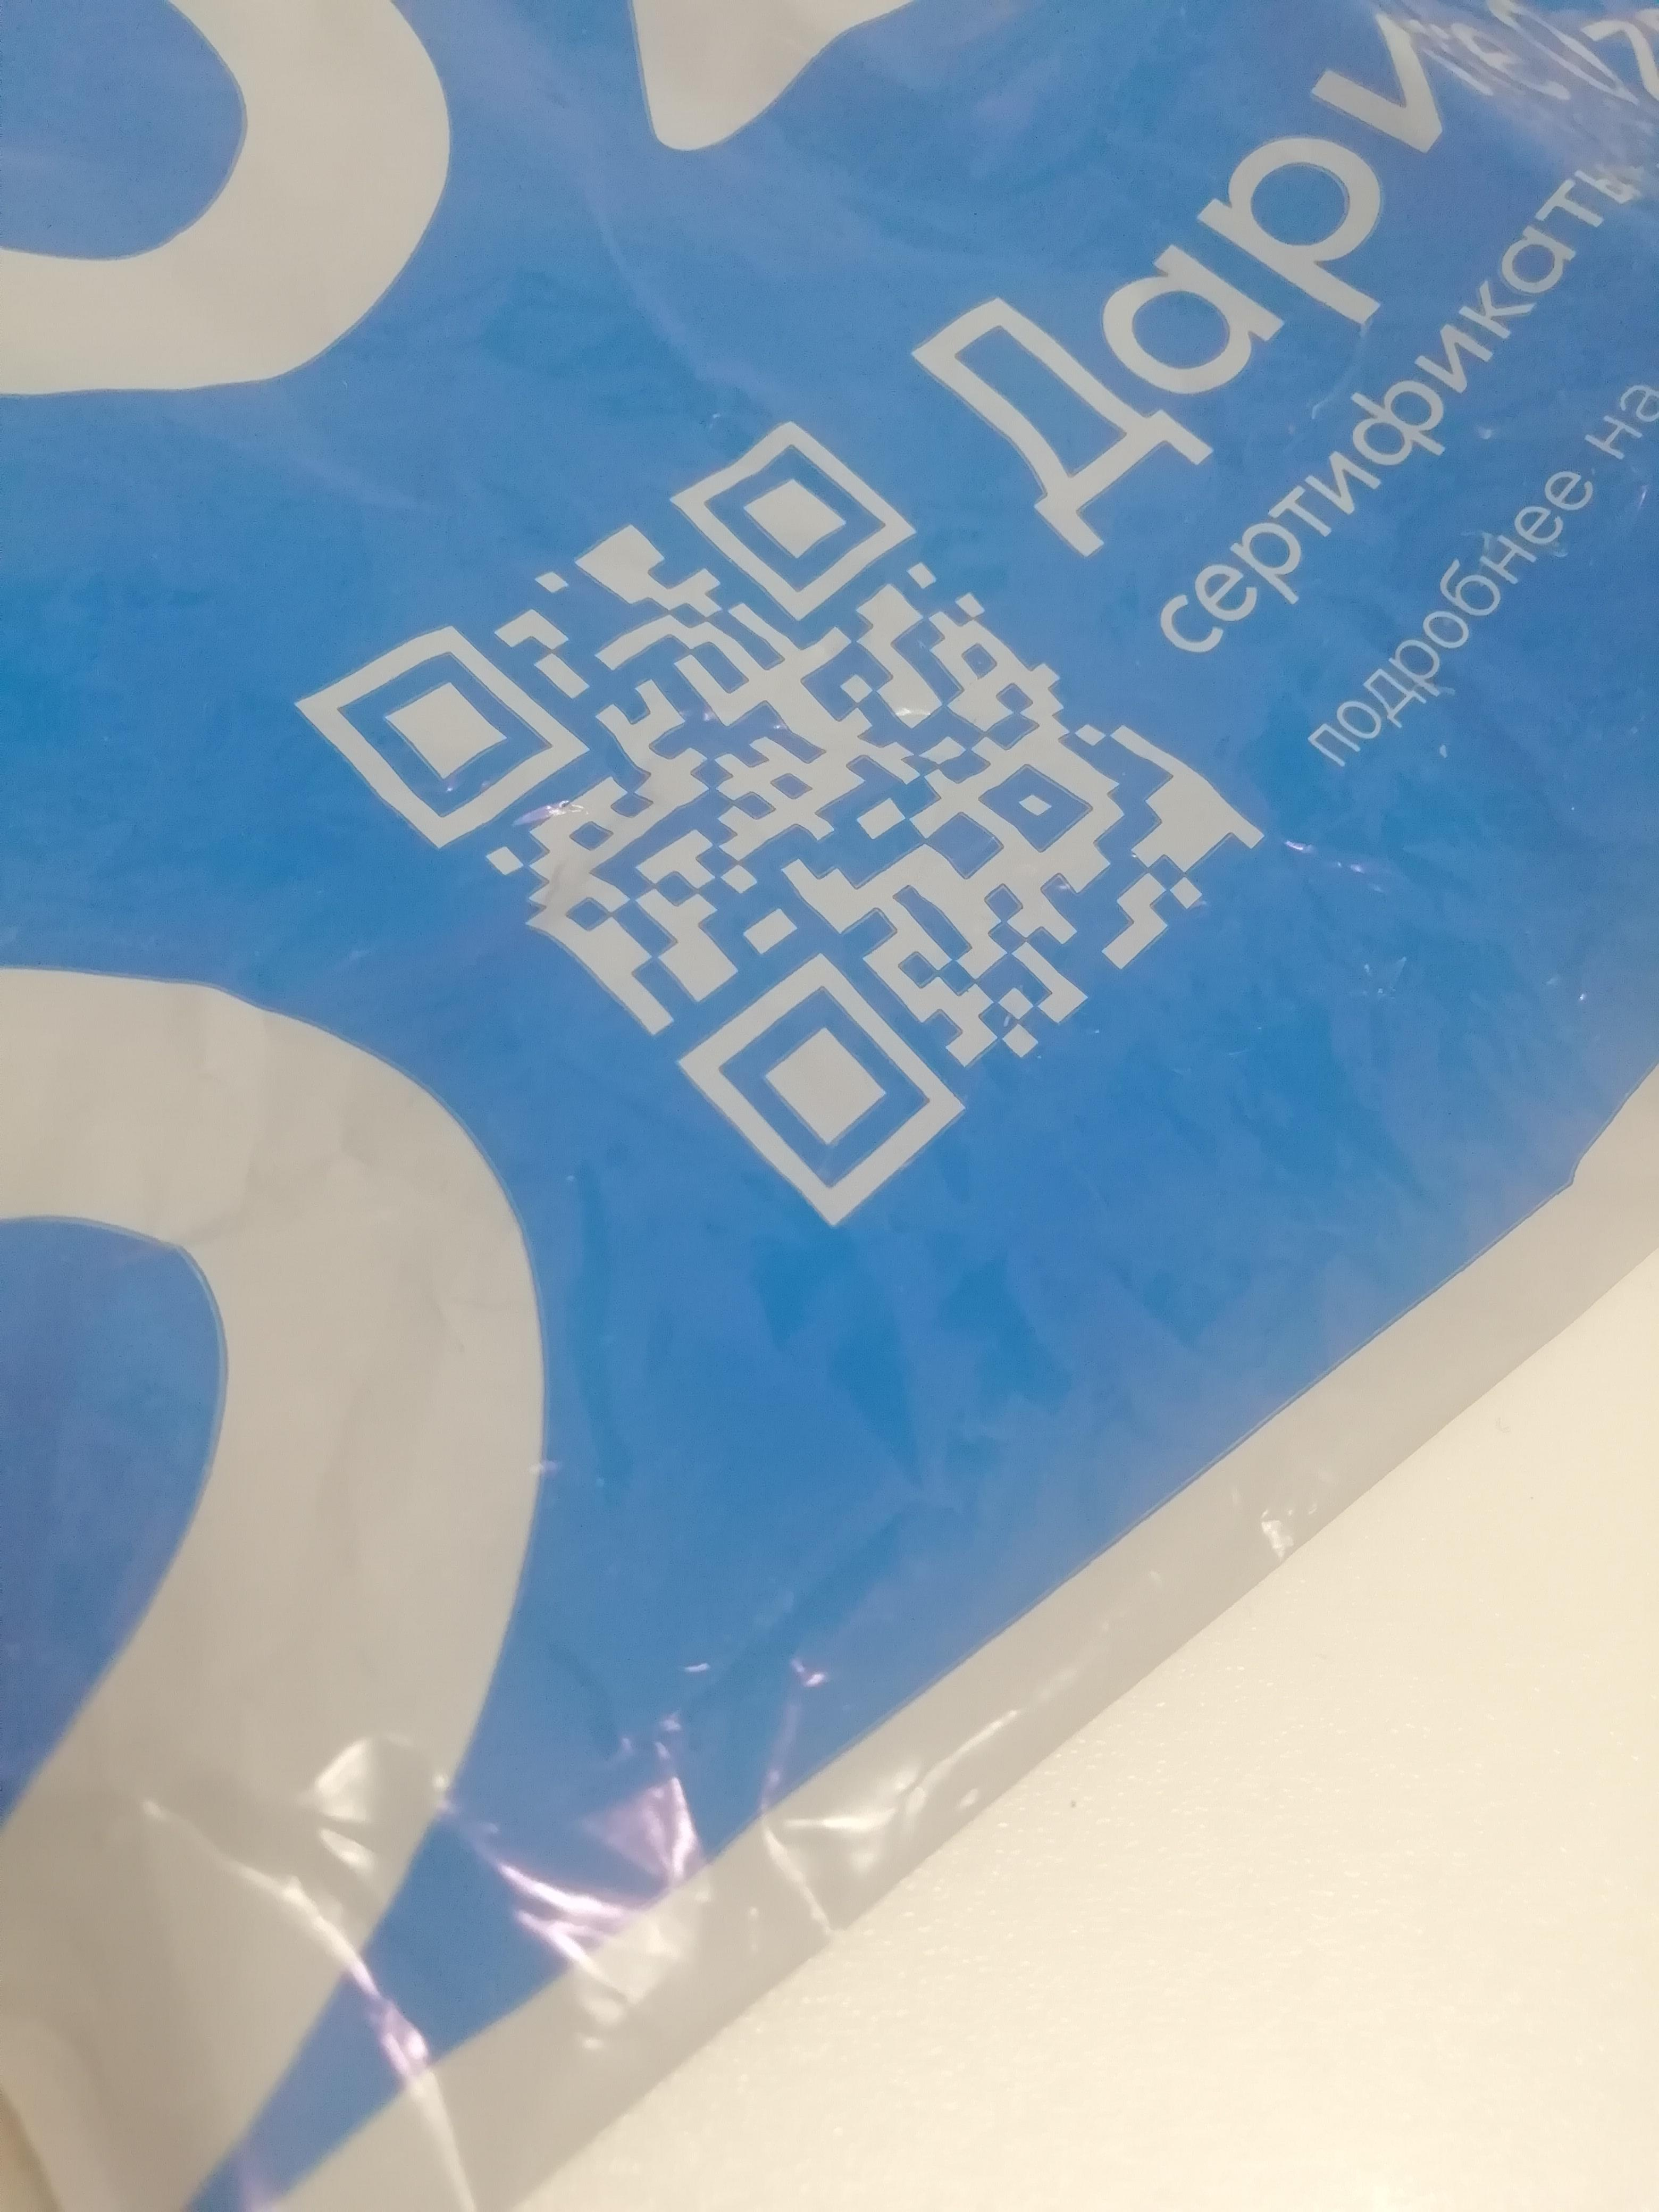qrcode: (293, 413, 1269, 1235)
